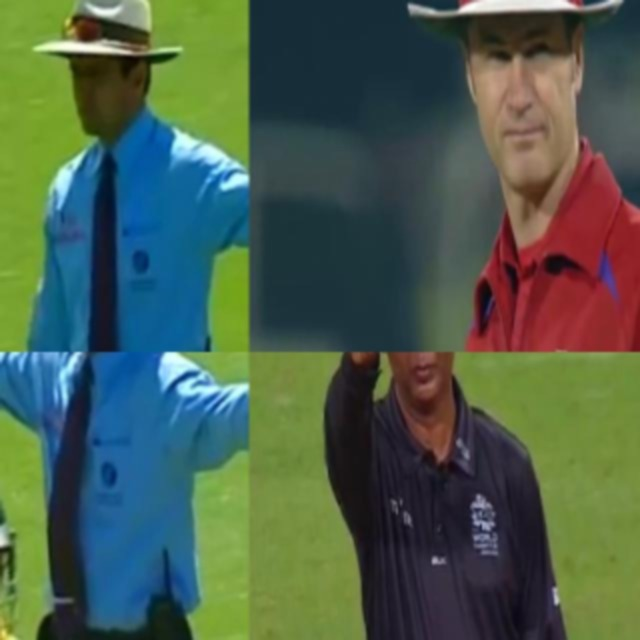No_Action: (387, 0, 640, 352)
No_Ball: (0, 0, 249, 352)
Out: (301, 352, 580, 640)
Wide: (0, 352, 249, 547)
